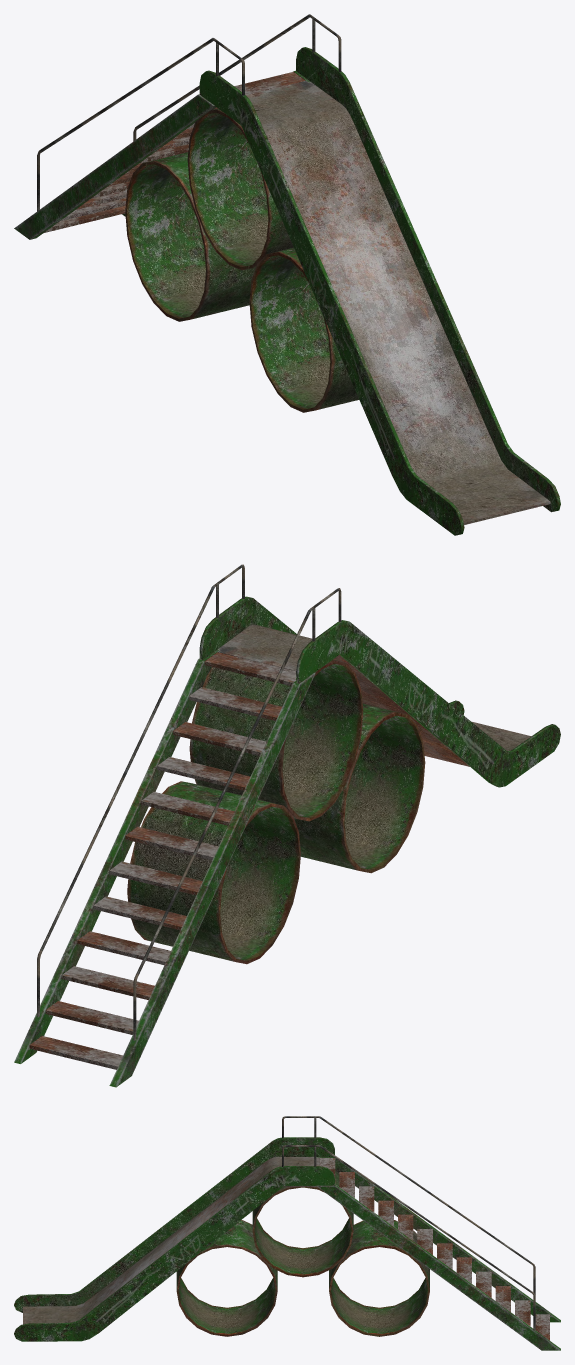
Rendered from slide.glb.
The picture shows the model from 3 angles, top to bottom: view 1: azimuth 30°, elevation 25°; view 2: azimuth 150°, elevation 25°; view 3: azimuth 270°, elevation 25°; orthographic projection. The views are drawn at different scales.
Parts seen in each view (by area): view 1: Gorka_0; view 2: Gorka_0; view 3: Gorka_0.
Boxes of the visible parts, x1,y1,x2,y2 form: Gorka_0: (14, 14, 560, 535); Gorka_0: (14, 564, 560, 1087); Gorka_0: (14, 1116, 560, 1350).
Bounding box in the file's own units: 0.8055 × 2.52 × 6.09.
1 material, 1 textured.
